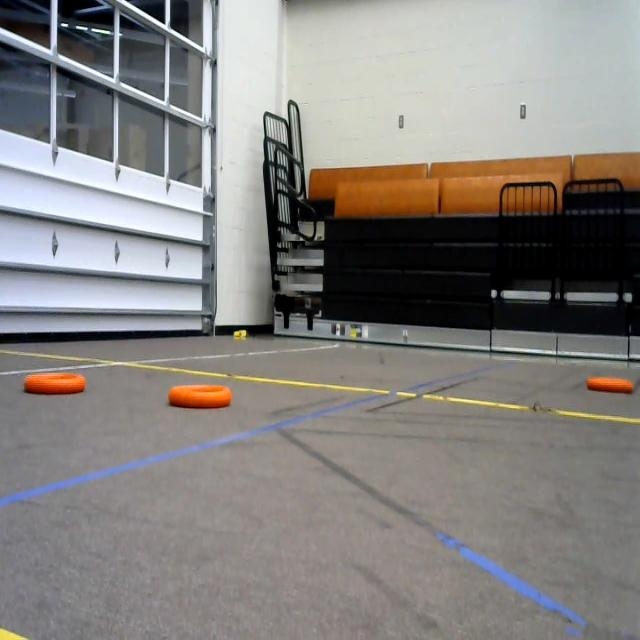note: (165, 373, 234, 427), (19, 360, 91, 400), (588, 371, 638, 399)
